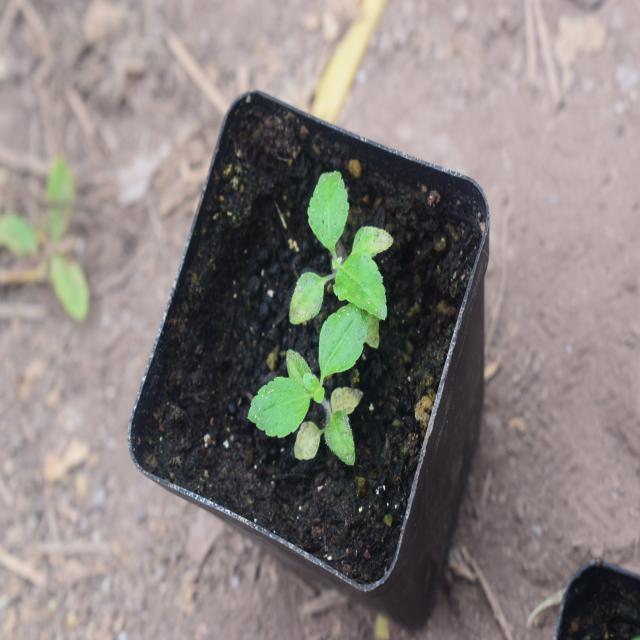billygoat_weed: (238, 287, 386, 464), (279, 173, 395, 323)
